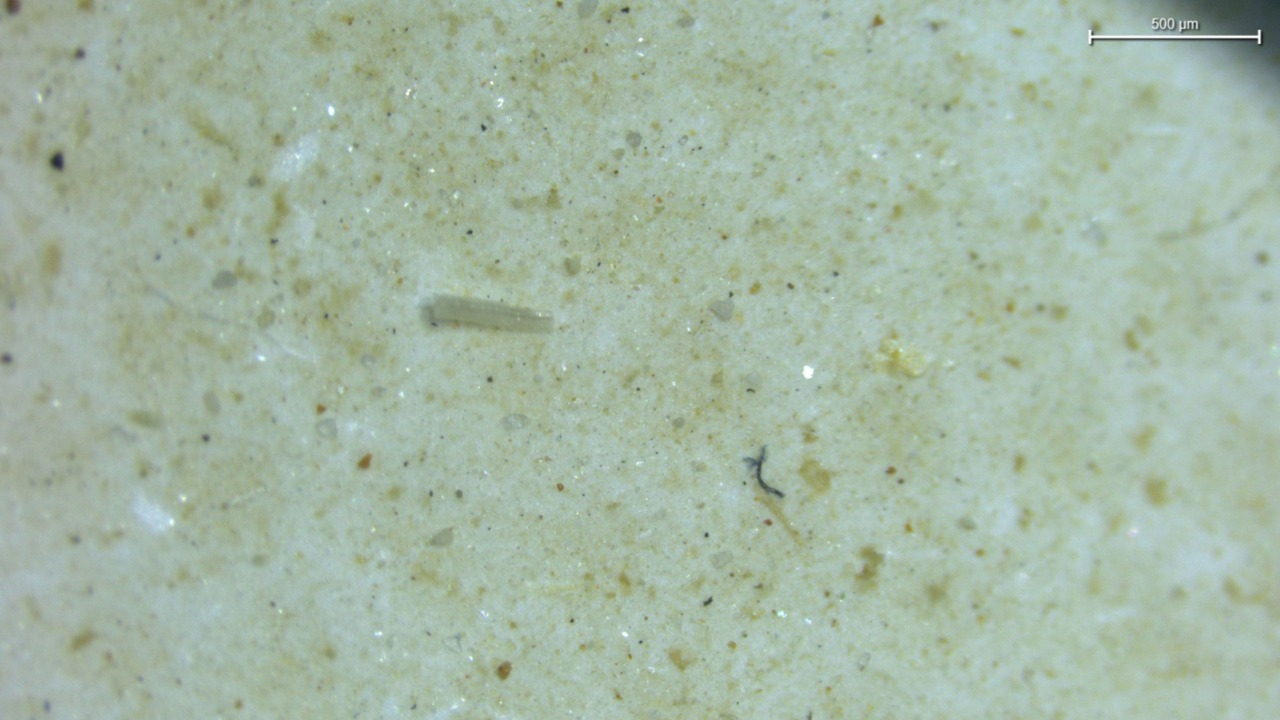microplastic_fragment: (420, 295, 554, 333), (709, 295, 735, 321)
